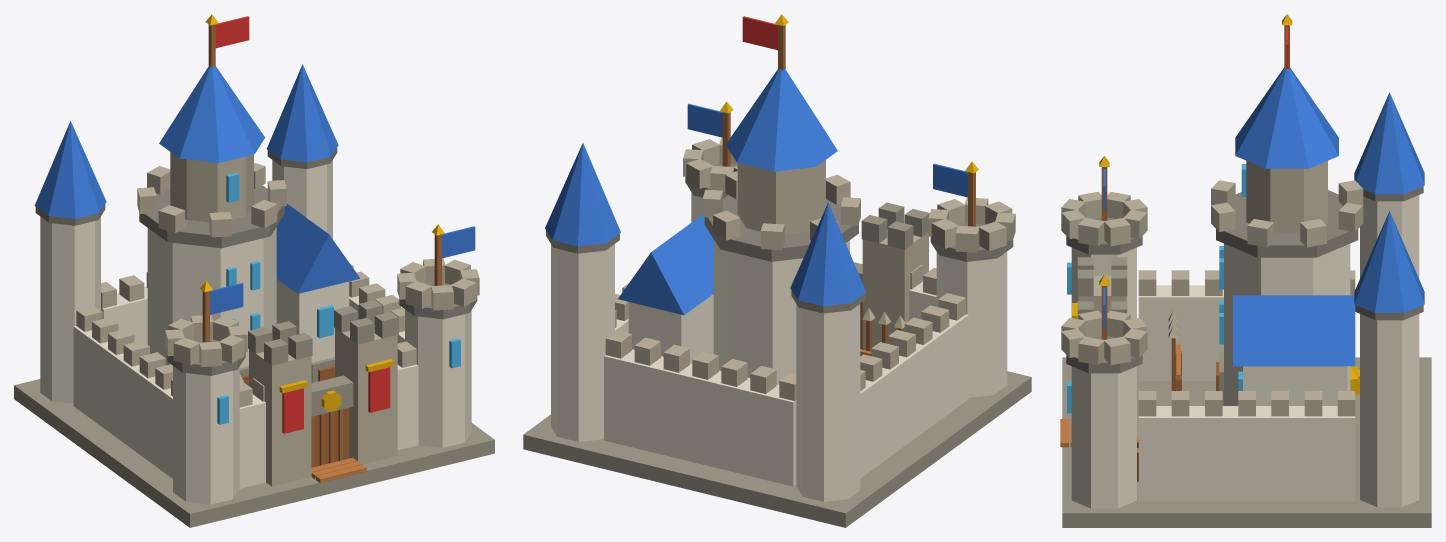
Rendered from castle_v3.glb.
The picture shows the model from 3 angles, left to right: view 1: azimuth 30°, elevation 25°; view 2: azimuth 150°, elevation 25°; view 3: azimuth 270°, elevation 25°; orthographic projection. The views are drawn at different scales.
Visible parts, largest first — view 1: castle_v3; view 2: castle_v3; view 3: castle_v3.
Part boxes in pixels (<box>): castle_v3: <box>14,14,494,527</box>; castle_v3: <box>523,14,1031,527</box>; castle_v3: <box>1060,14,1431,527</box>.
Bounding box in the file's own units: 0.92 × 1.16 × 0.925.
1 material, 1 textured.
